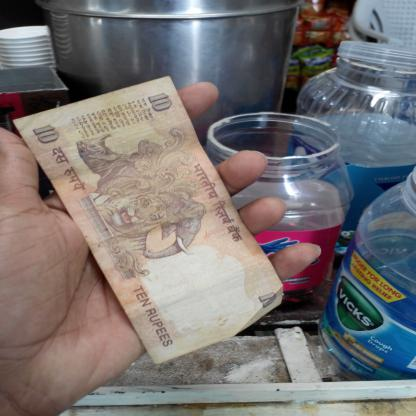Old10Back: (12, 75, 284, 365)
